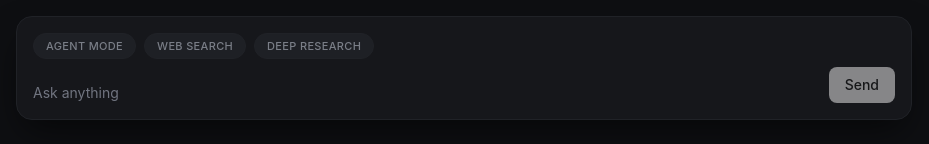
Test case: Composer send gating › enables send once both text and a target are present
The width and height of the screenshot is (929, 144).
Type "hello" into the text box with placeholder "Ask anything" at (427, 93), box [33,83,821,103]
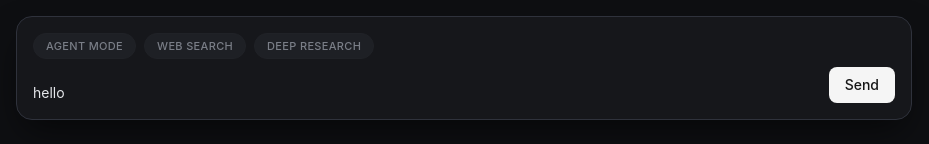
Expected: the button "Send" is enabled, [829,67,895,103]
